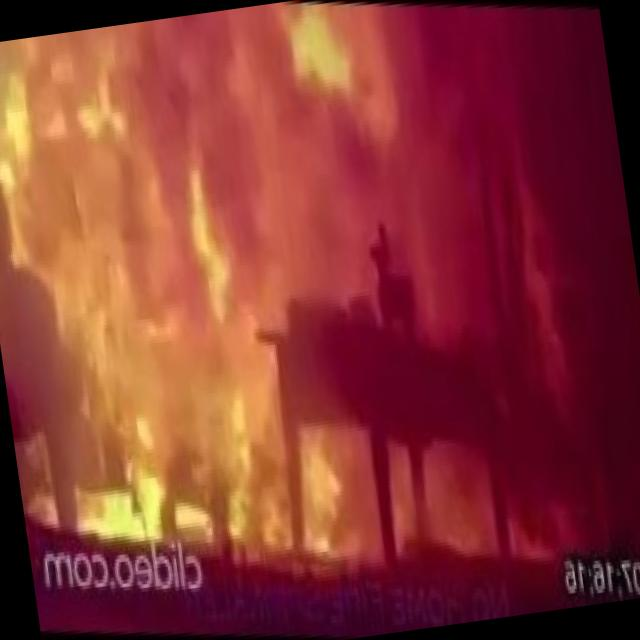fire: (0, 0, 607, 606)
